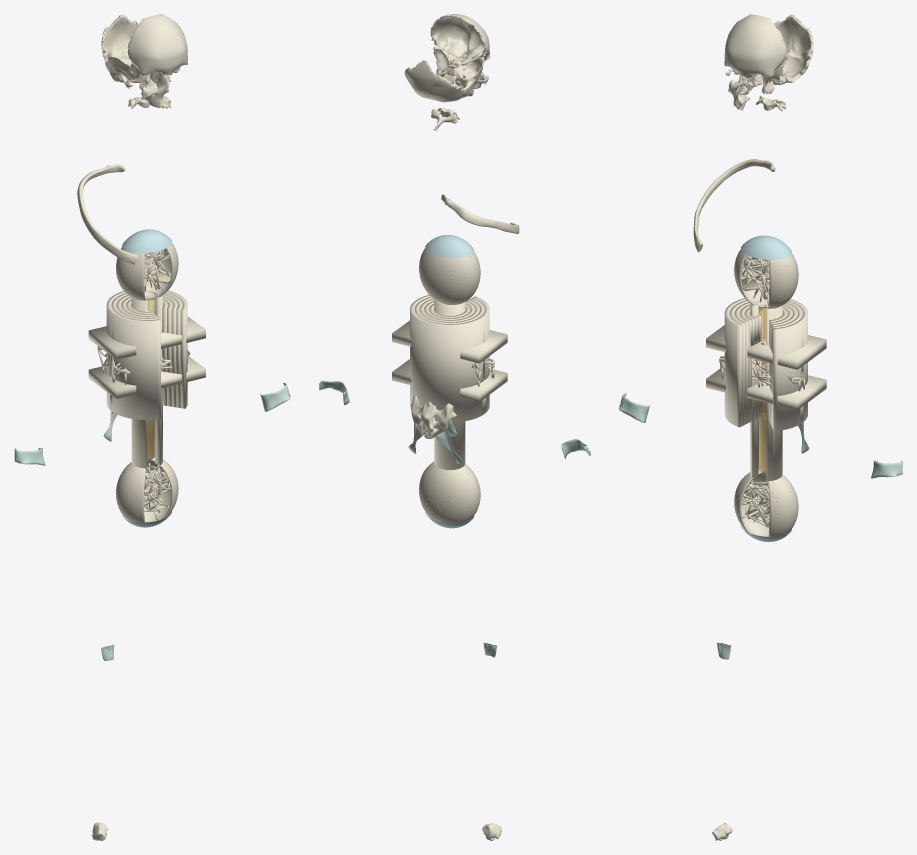
File: landmark-details.glb
3 renders of one model, left to right at view 1: azimuth 30°, elevation 25°; view 2: azimuth 150°, elevation 25°; view 3: azimuth 330°, elevation 25°, orthographic. The views are drawn at different scales.
Parts seen in each view (by area): view 1: Concentric lamella 7, Frontal bone, long-bone distal epiphysis, long-bone proximal epiphysis, long-bone cortical shaft, Outer compact table, Inner compact table, Occipital bone, Fifth rib.r, long-bone cartilage 1, Concentric lamella 5, Concentric lamella 6 (+3 smaller); view 2: Concentric lamella 7, long-bone distal epiphysis, long-bone proximal epiphysis, Frontal bone, Occipital bone, long-bone cortical shaft, Sacrum, Outer compact table, Inner compact table, Sphenoid bone, long-bone cartilage 1, Fifth rib.r; view 3: Concentric lamella 7, Frontal bone, long-bone distal epiphysis, long-bone proximal epiphysis, long-bone cortical shaft, Occipital bone, Outer compact table, Inner compact table, long-bone cartilage 1, Fifth rib.r, Concentric lamella 6, Concentric lamella 5 (+4 smaller).
Boxes of the visible parts, x1=… form: Concentric lamella 7: x1=106, y1=290, x2=187, y2=419; Frontal bone: x1=127, y1=14, x2=187, y2=77; long-bone distal epiphysis: x1=116, y1=457, x2=178, y2=522; long-bone proximal epiphysis: x1=116, y1=243, x2=178, y2=300; long-bone cortical shaft: x1=131, y1=290, x2=162, y2=468; Outer compact table: x1=88, y1=316, x2=205, y2=359; Inner compact table: x1=88, y1=356, x2=205, y2=398; Occipital bone: x1=101, y1=14, x2=150, y2=82; Fifth rib.r: x1=77, y1=164, x2=137, y2=264; long-bone cartilage 1: x1=122, y1=229, x2=171, y2=253; Concentric lamella 5: x1=116, y1=294, x2=177, y2=407; Concentric lamella 6: x1=111, y1=292, x2=182, y2=407; Concentric lamella 7: x1=410, y1=295, x2=489, y2=422; long-bone distal epiphysis: x1=419, y1=461, x2=480, y2=523; long-bone proximal epiphysis: x1=419, y1=248, x2=480, y2=304; Frontal bone: x1=430, y1=14, x2=489, y2=60; Occipital bone: x1=404, y1=59, x2=463, y2=102; long-bone cortical shaft: x1=434, y1=300, x2=465, y2=469; Sacrum: x1=411, y1=395, x2=456, y2=438; Outer compact table: x1=392, y1=320, x2=507, y2=363; Inner compact table: x1=392, y1=359, x2=507, y2=401; Sphenoid bone: x1=433, y1=45, x2=484, y2=79; long-bone cartilage 1: x1=425, y1=235, x2=474, y2=258; Fifth rib.r: x1=441, y1=194, x2=519, y2=233; Concentric lamella 7: x1=724, y1=298, x2=807, y2=431; Frontal bone: x1=724, y1=14, x2=786, y2=79; long-bone distal epiphysis: x1=734, y1=469, x2=798, y2=536; long-bone proximal epiphysis: x1=734, y1=249, x2=798, y2=308; long-bone cortical shaft: x1=750, y1=298, x2=782, y2=481; Occipital bone: x1=763, y1=14, x2=813, y2=84; Outer compact table: x1=706, y1=325, x2=826, y2=369; Inner compact table: x1=706, y1=369, x2=826, y2=409; long-bone cartilage 1: x1=741, y1=235, x2=791, y2=259; Fifth rib.r: x1=693, y1=159, x2=775, y2=252; Concentric lamella 6: x1=729, y1=300, x2=802, y2=428; Concentric lamella 5: x1=734, y1=302, x2=797, y2=426.
Bounding box in the file's own units: 0.588 × 1.67 × 0.2055.
